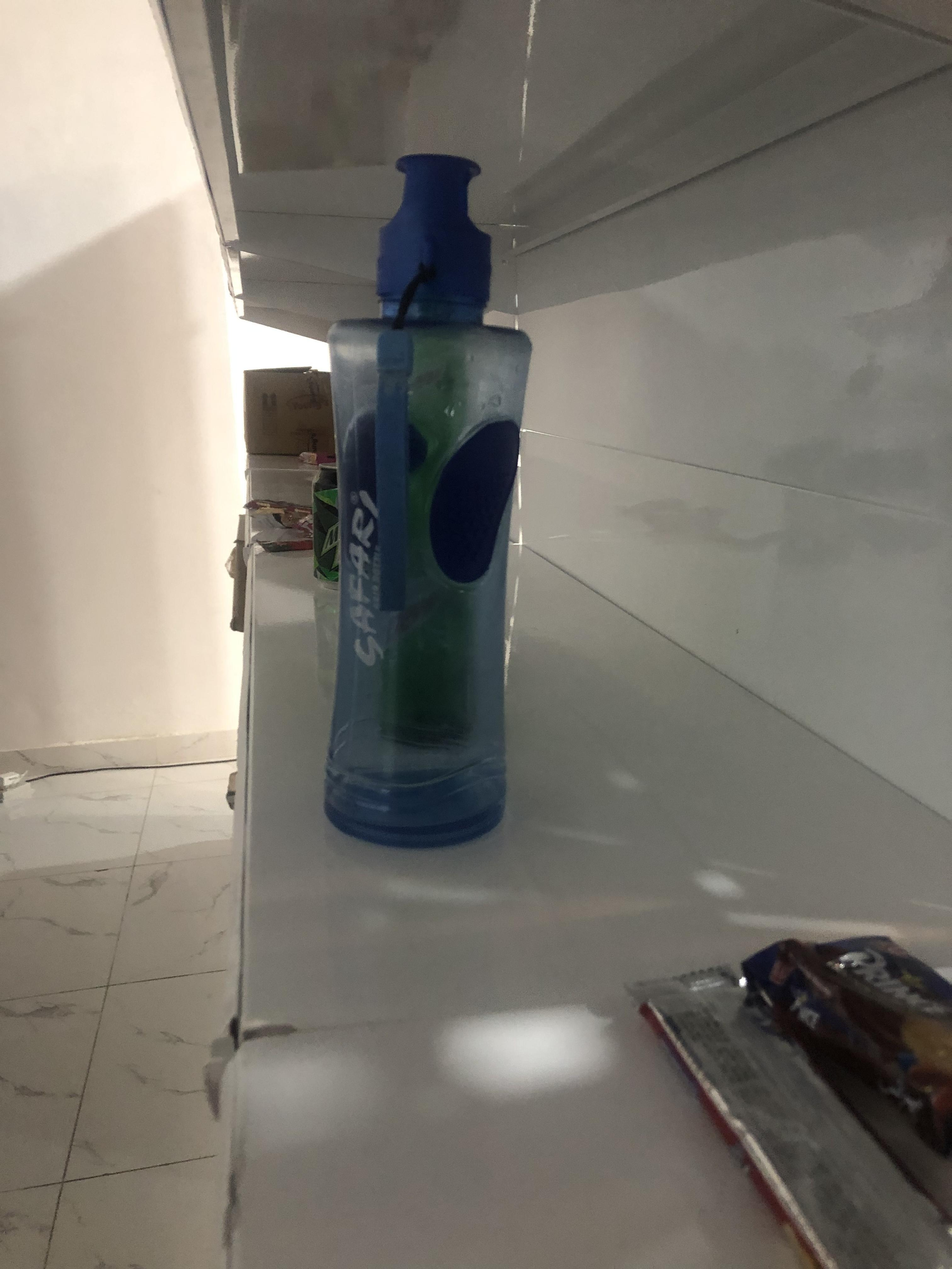gym bottle: (316, 139, 543, 849)
